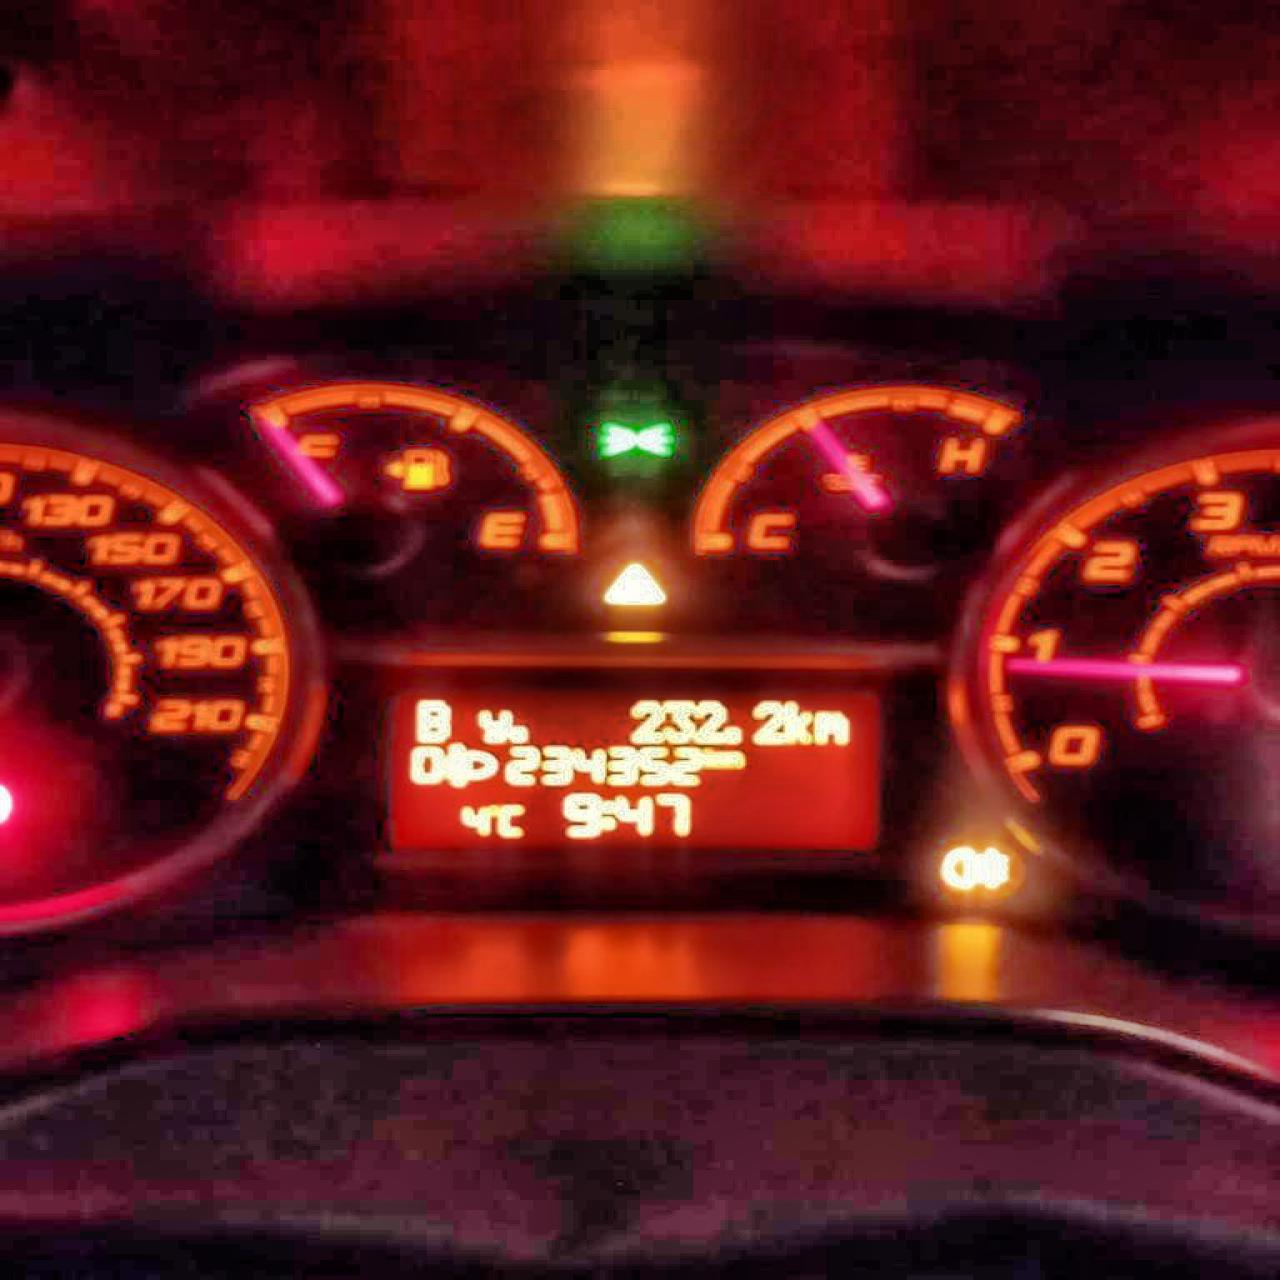-: (723, 724, 742, 745), (511, 721, 526, 744)
0: (404, 744, 443, 787)
2: (624, 696, 663, 744), (749, 696, 783, 745), (501, 742, 537, 788), (668, 744, 702, 788), (695, 697, 723, 744)
3: (540, 742, 572, 788), (662, 697, 693, 744), (606, 742, 636, 787)
4: (613, 791, 652, 837), (572, 744, 605, 785), (455, 802, 489, 837)
5: (636, 744, 668, 787)
7: (655, 790, 695, 838)
9: (558, 790, 600, 840)
X: (411, 695, 454, 745), (471, 704, 511, 744), (783, 696, 813, 745), (813, 709, 852, 747), (496, 799, 526, 840), (722, 749, 745, 769), (703, 747, 722, 769), (601, 796, 612, 833)
odometer: (373, 676, 885, 855)
